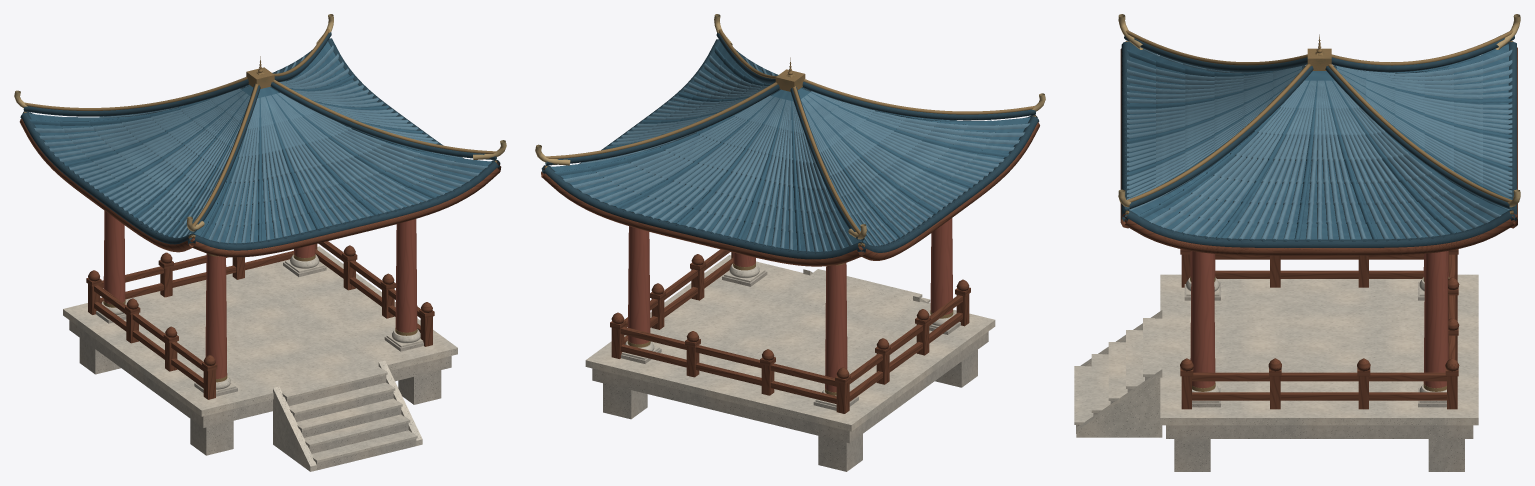
3 views of the same model, side by side, from view 1: azimuth 30°, elevation 25°; view 2: azimuth 150°, elevation 25°; view 3: azimuth 270°, elevation 25° (orthographic). The views are drawn at different scales.
Visible parts, largest first — view 1: OverWaterFootings_stonePale, PyramidalGlazedRoof_tileRound, PyramidalGlazedRoof_glaze, OverWaterFootings_stone, WaterfrontBalustrade_heartwood, PyramidalGlazedRoof_shadowTile, OpenPavilion_lacquer, PyramidalGlazedRoof_heartwood, PyramidalGlazedRoof_bronze, OpenPavilion_stonePale, OpenPavilion_stone, PyramidalGlazedRoof_gold; view 2: PyramidalGlazedRoof_tileRound, OverWaterFootings_stonePale, PyramidalGlazedRoof_glaze, WaterfrontBalustrade_heartwood, PyramidalGlazedRoof_shadowTile, OverWaterFootings_stone, OpenPavilion_lacquer, PyramidalGlazedRoof_heartwood, PyramidalGlazedRoof_bronze, OpenPavilion_stonePale, PyramidalGlazedRoof_gold, OpenPavilion_stone; view 3: PyramidalGlazedRoof_tileRound, OverWaterFootings_stonePale, PyramidalGlazedRoof_glaze, WaterfrontBalustrade_heartwood, PyramidalGlazedRoof_shadowTile, OverWaterFootings_stone, OpenPavilion_lacquer, PyramidalGlazedRoof_bronze, PyramidalGlazedRoof_heartwood, PyramidalGlazedRoof_gold, OpenPavilion_stonePale, OpenPavilion_stone.
Boxes of the visible parts, box(x1,y1,x2,y2) form: OverWaterFootings_stonePale: box(63, 246, 457, 471); PyramidalGlazedRoof_tileRound: box(32, 45, 487, 243); PyramidalGlazedRoof_glaze: box(29, 41, 491, 243); OverWaterFootings_stone: box(69, 320, 451, 470); WaterfrontBalustrade_heartwood: box(86, 241, 434, 399); PyramidalGlazedRoof_shadowTile: box(20, 32, 500, 250); OpenPavilion_lacquer: box(103, 210, 417, 378); PyramidalGlazedRoof_heartwood: box(19, 118, 501, 257); PyramidalGlazedRoof_bronze: box(23, 28, 497, 238); OpenPavilion_stonePale: box(98, 254, 423, 392); OpenPavilion_stone: box(96, 262, 423, 396); PyramidalGlazedRoof_gold: box(14, 14, 506, 231); PyramidalGlazedRoof_tileRound: box(560, 52, 1029, 251); OverWaterFootings_stonePale: box(585, 255, 995, 431); PyramidalGlazedRoof_glaze: box(551, 42, 1030, 251); WaterfrontBalustrade_heartwood: box(610, 249, 970, 413); PyramidalGlazedRoof_shadowTile: box(541, 33, 1039, 259); OverWaterFootings_stone: box(592, 331, 988, 471); OpenPavilion_lacquer: box(628, 218, 952, 392); PyramidalGlazedRoof_heartwood: box(541, 122, 1039, 266); PyramidalGlazedRoof_bronze: box(544, 29, 1035, 246); OpenPavilion_stonePale: box(621, 263, 959, 406); PyramidalGlazedRoof_gold: box(535, 14, 1045, 239); OpenPavilion_stone: box(621, 271, 960, 410); PyramidalGlazedRoof_tileRound: box(1127, 49, 1512, 239); OverWaterFootings_stonePale: box(1074, 274, 1478, 437); PyramidalGlazedRoof_glaze: box(1127, 44, 1512, 239); WaterfrontBalustrade_heartwood: box(1180, 249, 1459, 409); PyramidalGlazedRoof_shadowTile: box(1121, 35, 1516, 247); OverWaterFootings_stone: box(1076, 377, 1473, 471); OpenPavilion_lacquer: box(1190, 251, 1448, 388); PyramidalGlazedRoof_bronze: box(1125, 30, 1513, 214); PyramidalGlazedRoof_heartwood: box(1120, 47, 1517, 255); PyramidalGlazedRoof_gold: box(1118, 14, 1520, 207); OpenPavilion_stonePale: box(1186, 277, 1449, 402); OpenPavilion_stone: box(1184, 281, 1446, 407).
Size of the model in its own units: 6.88 by 6.69 by 7.27.
11 materials, 11 textured.
